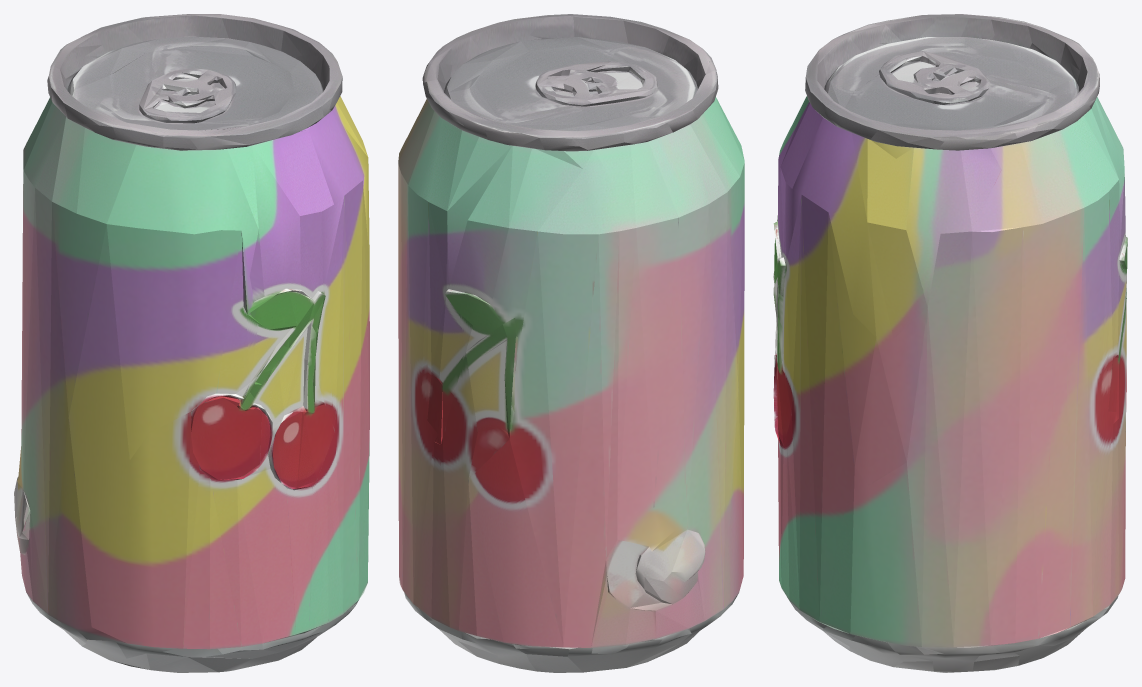
File: meshy.glb
The picture shows the model from 3 angles, left to right: view 1: azimuth 30°, elevation 25°; view 2: azimuth 150°, elevation 25°; view 3: azimuth 270°, elevation 25°; orthographic projection.
Size of the model in its own units: 1.11 by 1.9 by 1.12.
1 material, 1 textured.
